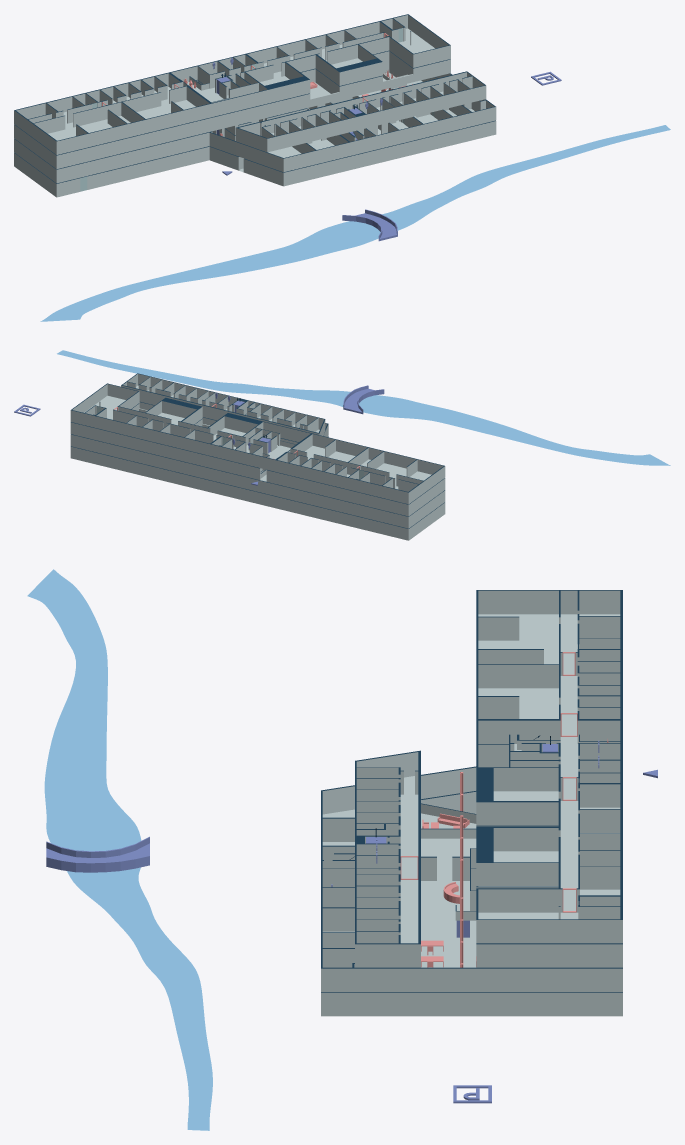
Rendered from papierfabrik.glb.
The picture shows the model from 3 angles, top to bottom: view 1: azimuth 30°, elevation 25°; view 2: azimuth 150°, elevation 25°; view 3: azimuth 270°, elevation 25°; orthographic projection. The views are drawn at different scales.
Visible parts, largest first — view 1: Flusslauf_v2, 04_Dachgeschoss, 03_Obergeschoss, 9442_Technik, 02_Zwischengeschoss, 9441_RZ_Zentraler_Serverraum, 9429_MI_Seminar_MAC_Motion_Capture, 9428_MI_Silicon_Graphics_3D, 9301_A1_Datenbanken, 9129_Audimax, 01_Erdgeschoss, 9101_S_Seminar_1 (+24 smaller); view 2: Flusslauf_v2, 04_Dachgeschoss, 02_Zwischengeschoss, 01_Erdgeschoss, 9442_Technik, 03_Obergeschoss, 9441_RZ_Zentraler_Serverraum, 9115_Bibliothek, 9429_MI_Seminar_MAC_Motion_Capture, 9428_MI_Silicon_Graphics_3D, 9440_RZ_Projektraum_Server, 9427_Heizung (+16 smaller); view 3: Flusslauf_v2, 04_Dachgeschoss, 02_Zwischengeschoss, 9115_Bibliothek, 9441_RZ_Zentraler_Serverraum, 9442_Technik, 9429_MI_Seminar_MAC_Motion_Capture, 9428_MI_Silicon_Graphics_3D, 03_Obergeschoss, 01_Erdgeschoss, Bruecke, 9328_MI_Labor_PC (+14 smaller).
Part boxes in pixels (left/top/right/bottom): Flusslauf_v2: left=40, top=125, right=670, bottom=321; 04_Dachgeschoss: left=27, top=14, right=450, bottom=136; 03_Obergeschoss: left=27, top=50, right=472, bottom=150; 9442_Technik: left=32, top=101, right=145, bottom=154; 02_Zwischengeschoss: left=79, top=73, right=486, bottom=177; 9441_RZ_Zentraler_Serverraum: left=122, top=85, right=212, bottom=133; 9429_MI_Seminar_MAC_Motion_Capture: left=315, top=44, right=382, bottom=85; 9428_MI_Silicon_Graphics_3D: left=244, top=61, right=310, bottom=103; 9301_A1_Datenbanken: left=235, top=141, right=316, bottom=172; 9129_Audimax: left=127, top=146, right=209, bottom=179; 01_Erdgeschoss: left=79, top=120, right=496, bottom=191; 9101_S_Seminar_1: left=245, top=159, right=316, bottom=186; Flusslauf_v2: left=57, top=350, right=670, bottom=465; 04_Dachgeschoss: left=70, top=383, right=424, bottom=495; 02_Zwischengeschoss: left=70, top=401, right=388, bottom=523; 01_Erdgeschoss: left=70, top=446, right=388, bottom=535; 9442_Technik: left=347, top=447, right=445, bottom=492; 03_Obergeschoss: left=84, top=381, right=424, bottom=507; 9441_RZ_Zentraler_Serverraum: left=290, top=433, right=368, bottom=474; 9115_Bibliothek: left=95, top=452, right=210, bottom=492; 9429_MI_Seminar_MAC_Motion_Capture: left=144, top=397, right=202, bottom=427; 9428_MI_Silicon_Graphics_3D: left=206, top=413, right=263, bottom=446; 9440_RZ_Projektraum_Server: left=381, top=478, right=419, bottom=504; 9427_Heizung: left=95, top=408, right=136, bottom=435; Flusslauf_v2: left=27, top=569, right=212, bottom=1130; 04_Dachgeschoss: left=476, top=590, right=622, bottom=943; 02_Zwischengeschoss: left=321, top=766, right=622, bottom=991; 9115_Bibliothek: left=418, top=856, right=579, bottom=1016; 9441_RZ_Zentraler_Serverraum: left=476, top=664, right=560, bottom=743; 9442_Technik: left=476, top=590, right=560, bottom=664; 9429_MI_Seminar_MAC_Motion_Capture: left=476, top=826, right=560, bottom=886; 9428_MI_Silicon_Graphics_3D: left=476, top=767, right=560, bottom=825; 03_Obergeschoss: left=355, top=771, right=578, bottom=967; 01_Erdgeschoss: left=321, top=791, right=622, bottom=1016; Bruecke: left=46, top=836, right=149, bottom=872; 9328_MI_Labor_PC: left=476, top=943, right=560, bottom=967.
Bounding box in the file's own units: 179 × 15.92 × 85.07.
